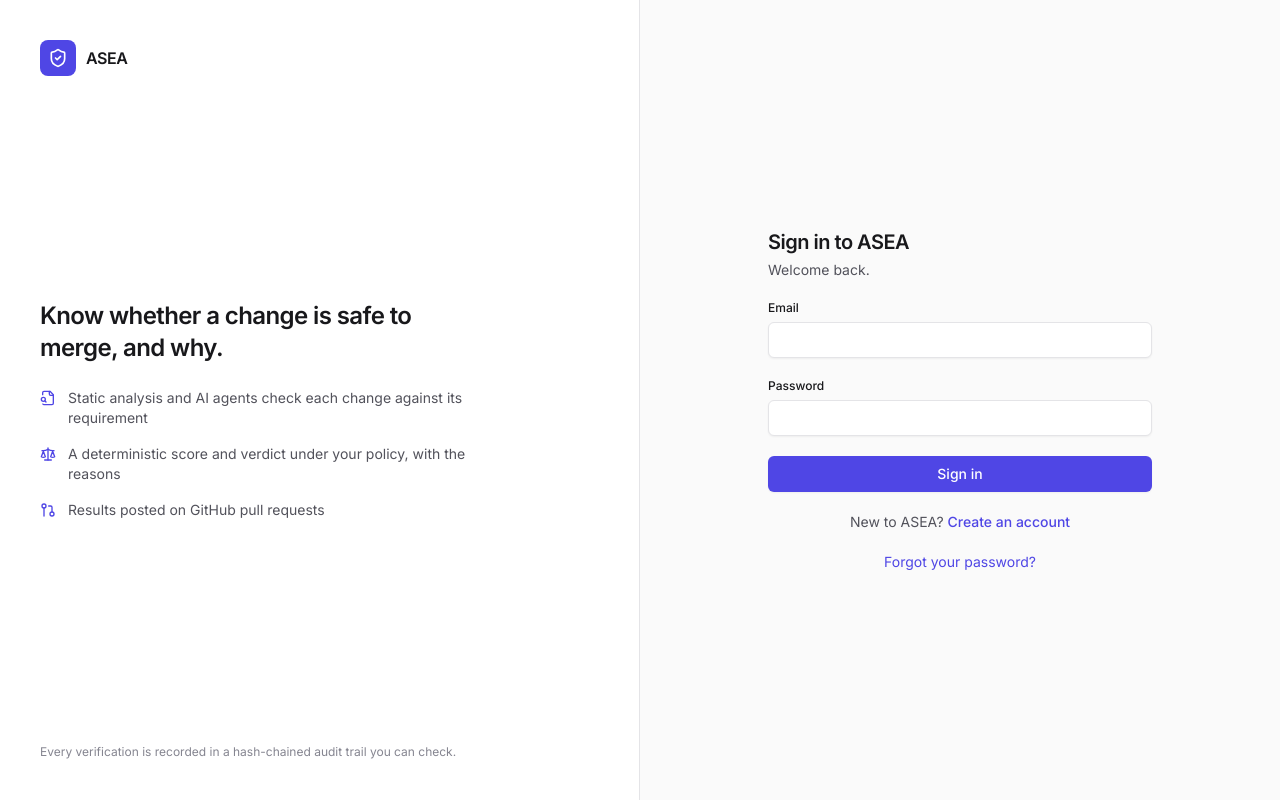
application workflows › shows an authentication error and then signs in successfully
The width and height of the screenshot is (1280, 800).
Type "dana@example.com" into the field labelled "Email" at (960, 340), box [768, 322, 1152, 358]
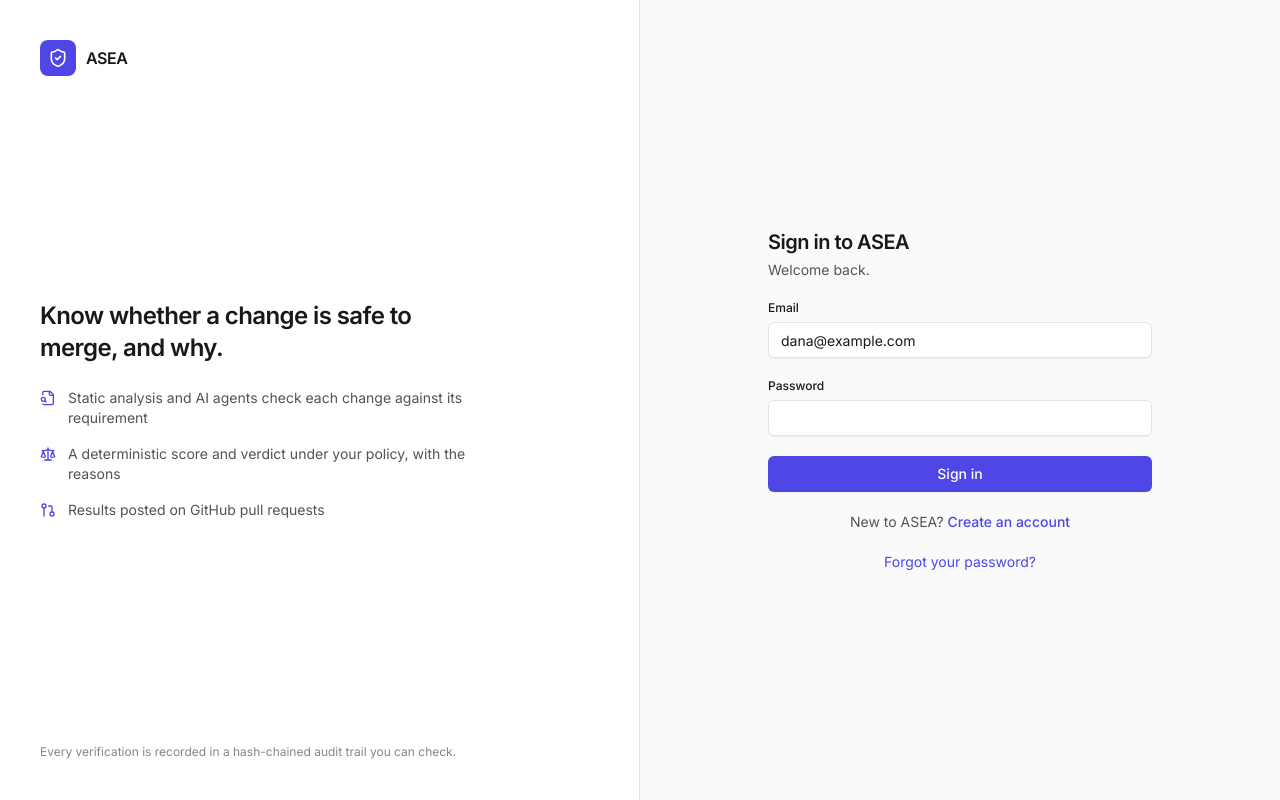
Type "wrong-password" into the password field labelled "Password" at (960, 418), box [768, 400, 1152, 436]
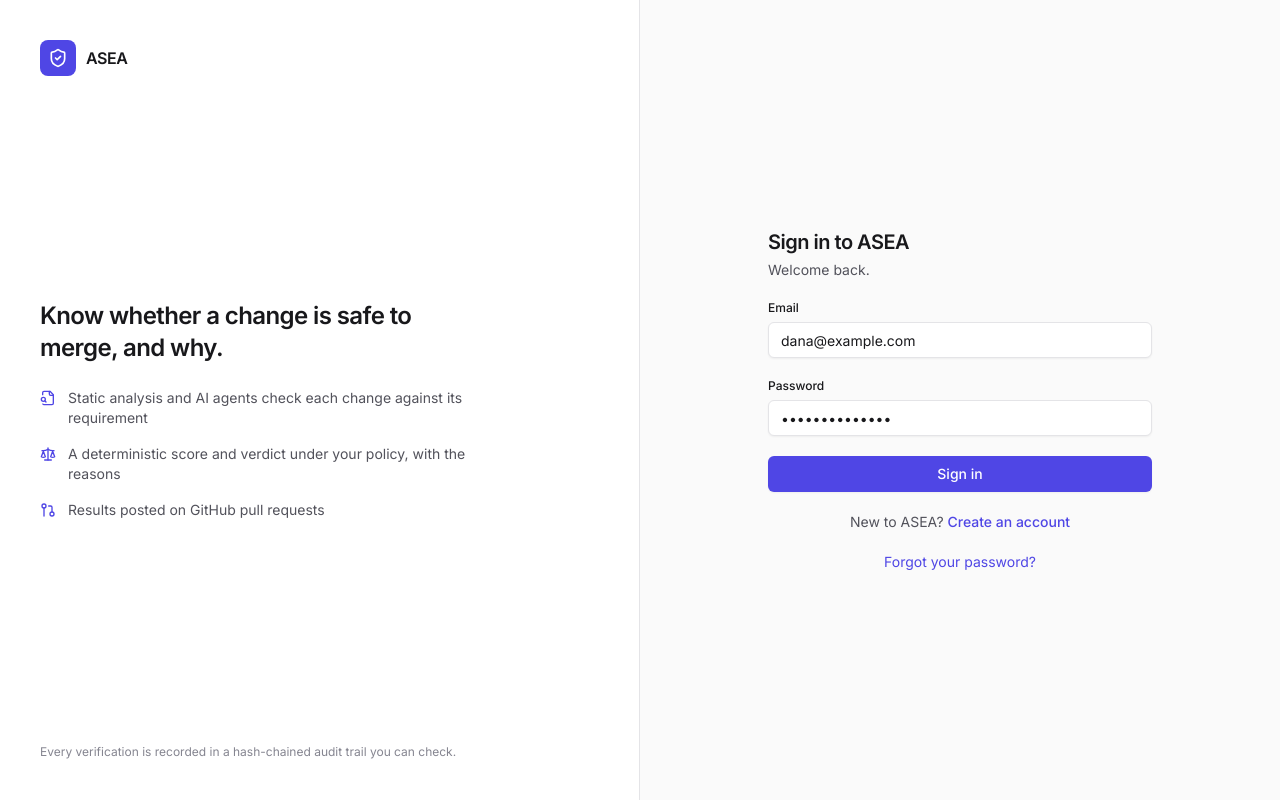
Click the button "Sign in" at (960, 474), box [768, 456, 1152, 492]
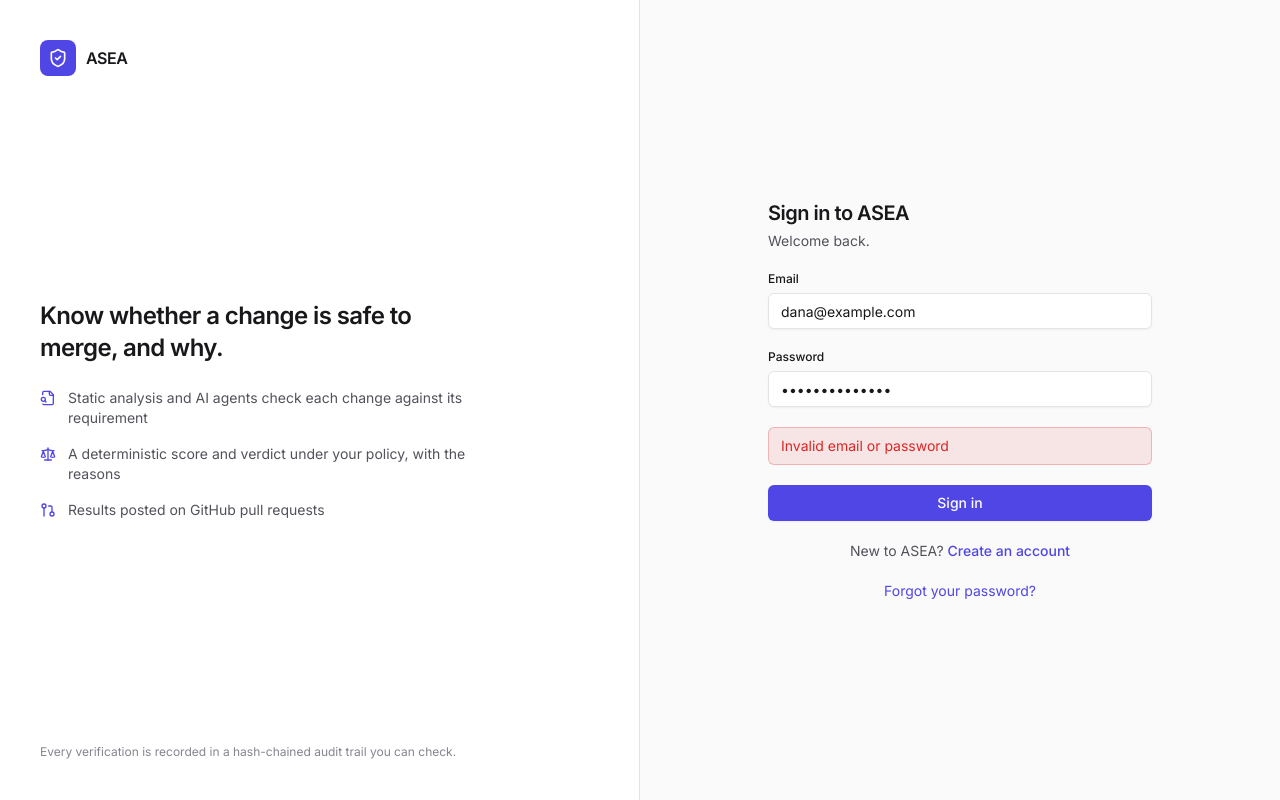
Expected: the message reads "Invalid email or password", [781, 437, 949, 454]
Type "correct-horse-22" into the password field labelled "Password" at (960, 389), box [768, 371, 1152, 407]
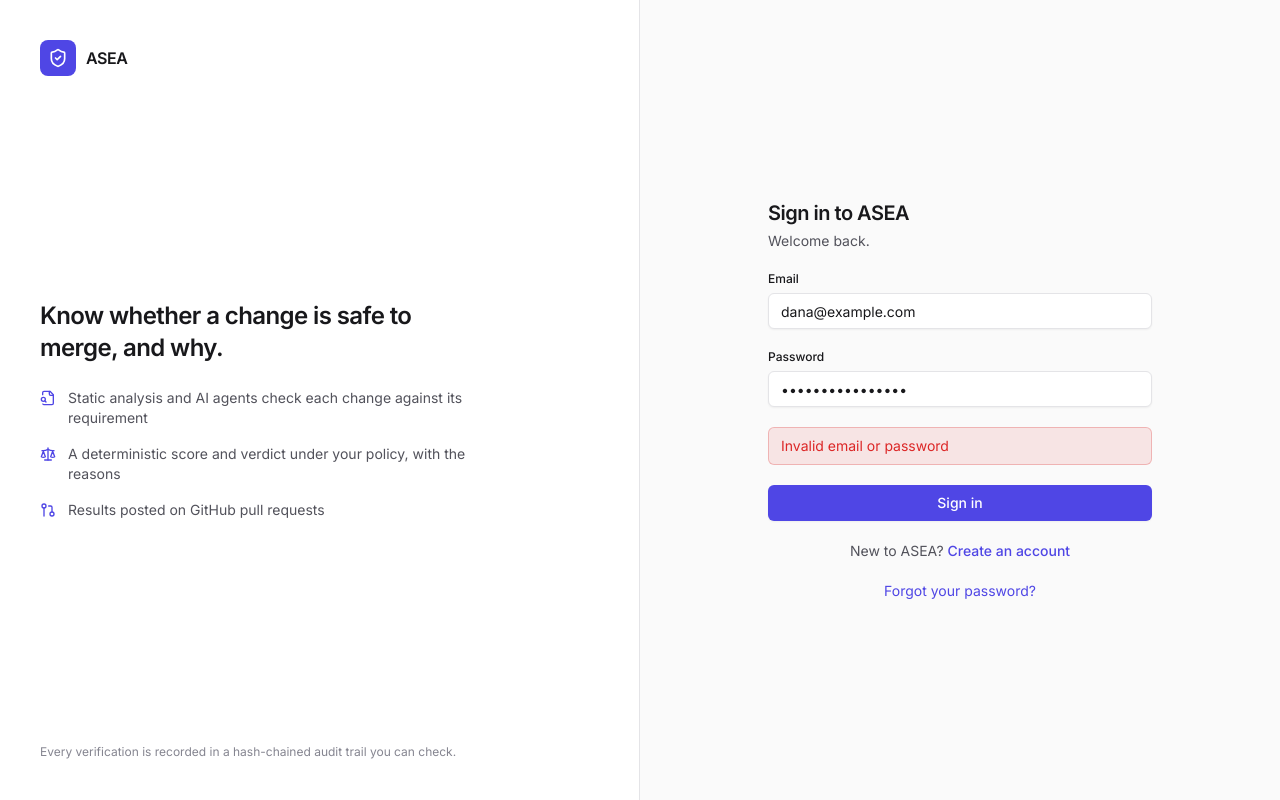
Click the button "Sign in" at (960, 503), box [768, 485, 1152, 521]
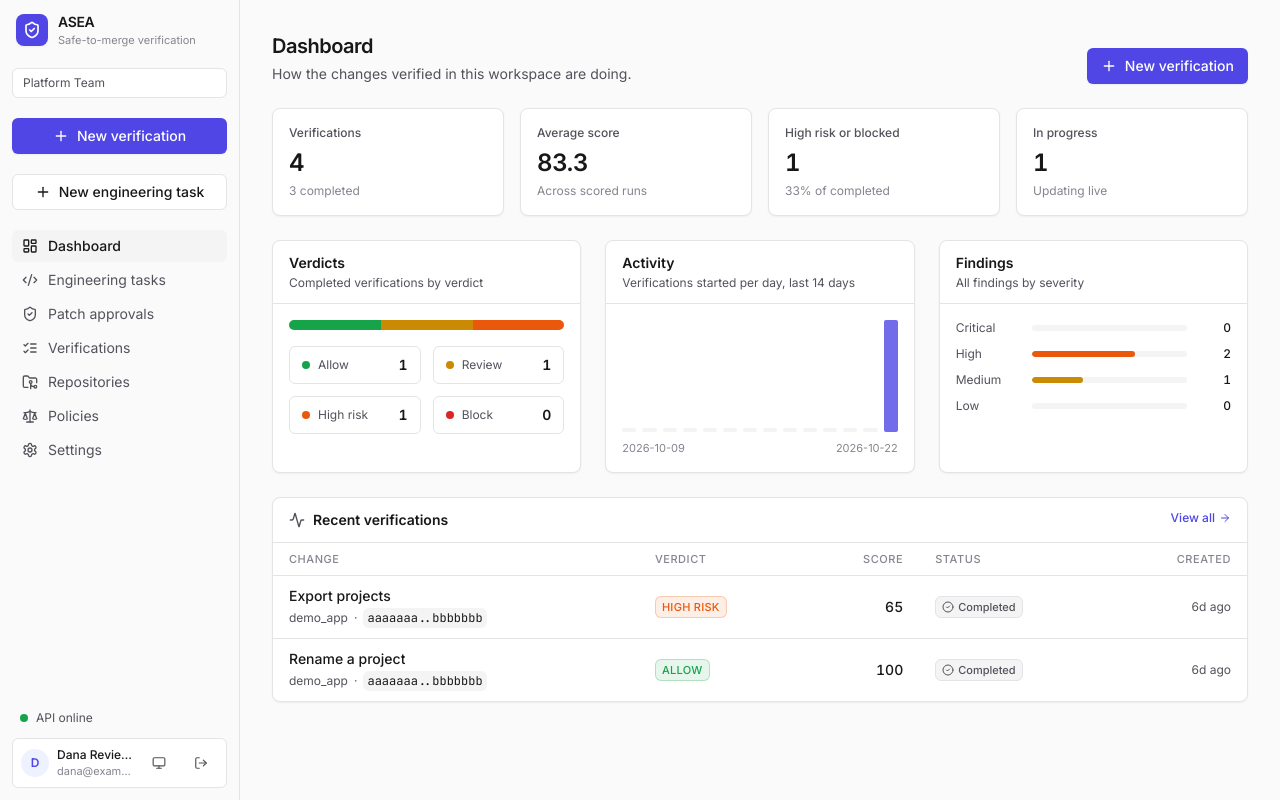
Expected: the heading "Dashboard" is shown, [272, 34, 373, 58]
